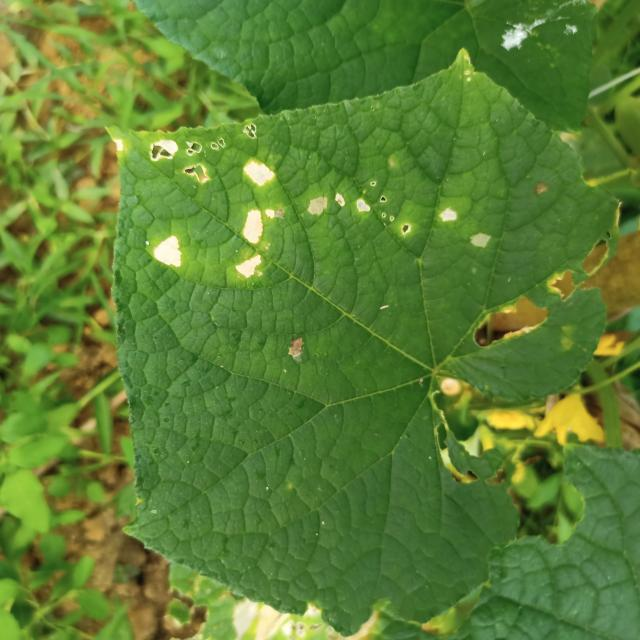disease_cucumber: (112, 124, 289, 295), (295, 141, 500, 273)
